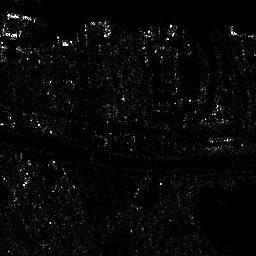ship: (5, 11, 36, 22)
